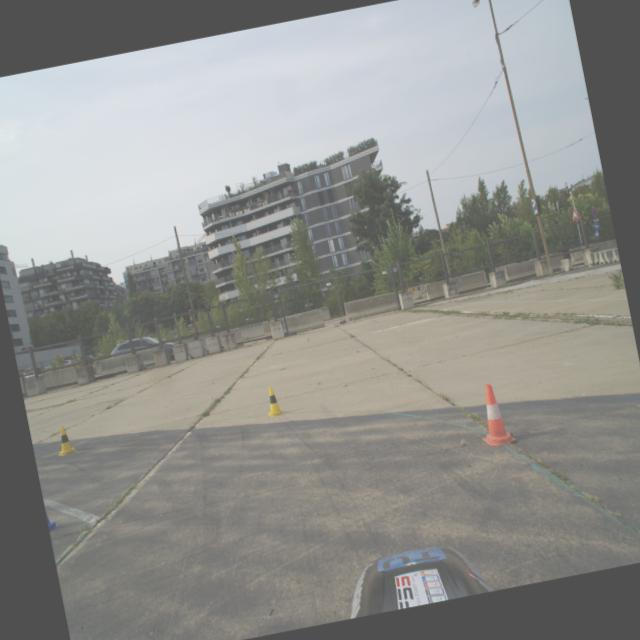blue_cone: (45, 504, 63, 534)
orange_cone: (472, 381, 516, 448)
yellow_cone: (54, 424, 78, 456), (262, 385, 284, 418)
